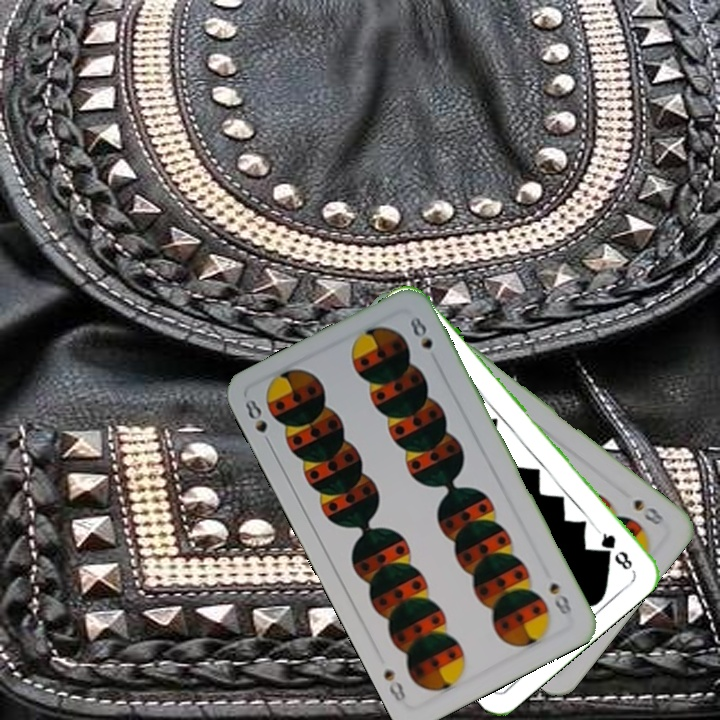G8: (593, 525, 635, 573)
S8: (241, 394, 275, 451), (629, 495, 669, 528), (544, 578, 575, 619)
